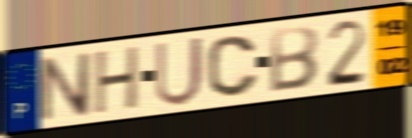2: (325, 18, 367, 89)
B: (267, 23, 321, 95)
C: (204, 34, 261, 100)
H: (92, 43, 142, 118)
N: (35, 50, 93, 124)
U: (153, 34, 207, 109)
